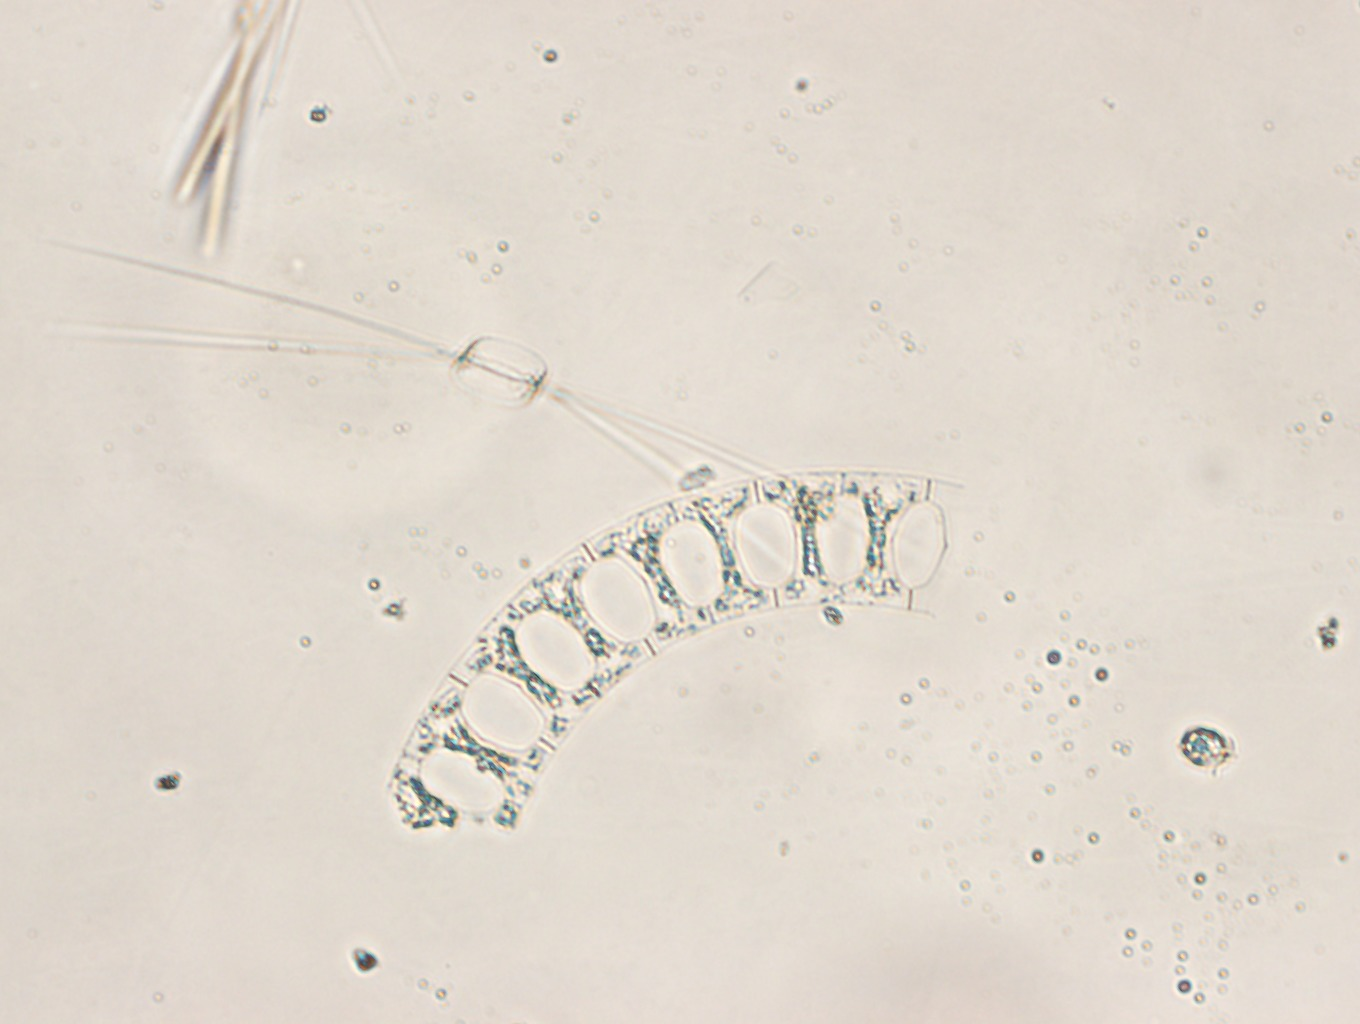chaetoceros: (19, 231, 884, 632)
eucampia: (377, 457, 974, 852)
